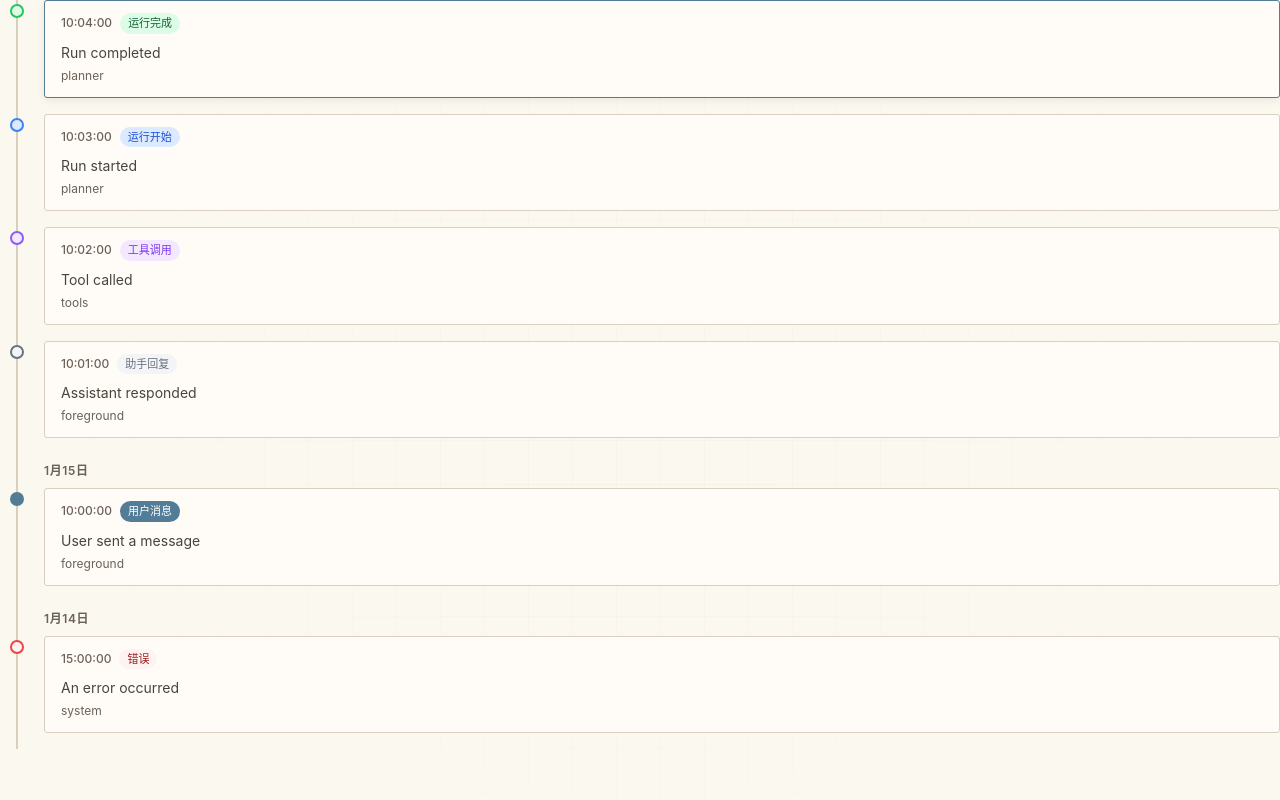
Scenario: TimelineView › collapses expanded event when clicked again
Click the button with test id "timeline-event-e1" at (640, 545), box left=0, top=488, right=1279, bottom=602
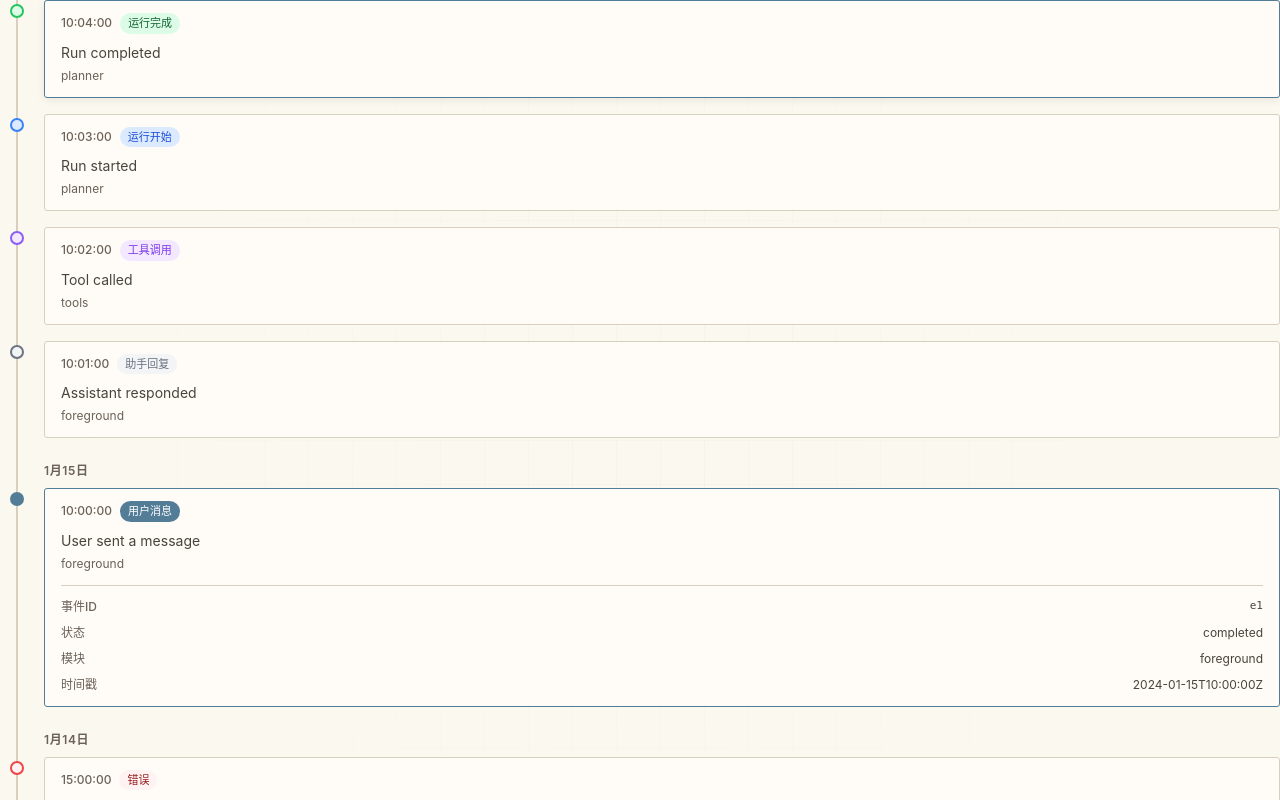
Now the text "事件ID" is shown, box left=61, top=598, right=97, bottom=616
Click the button with test id "timeline-event-e1" at (640, 708), box left=0, top=488, right=1279, bottom=722
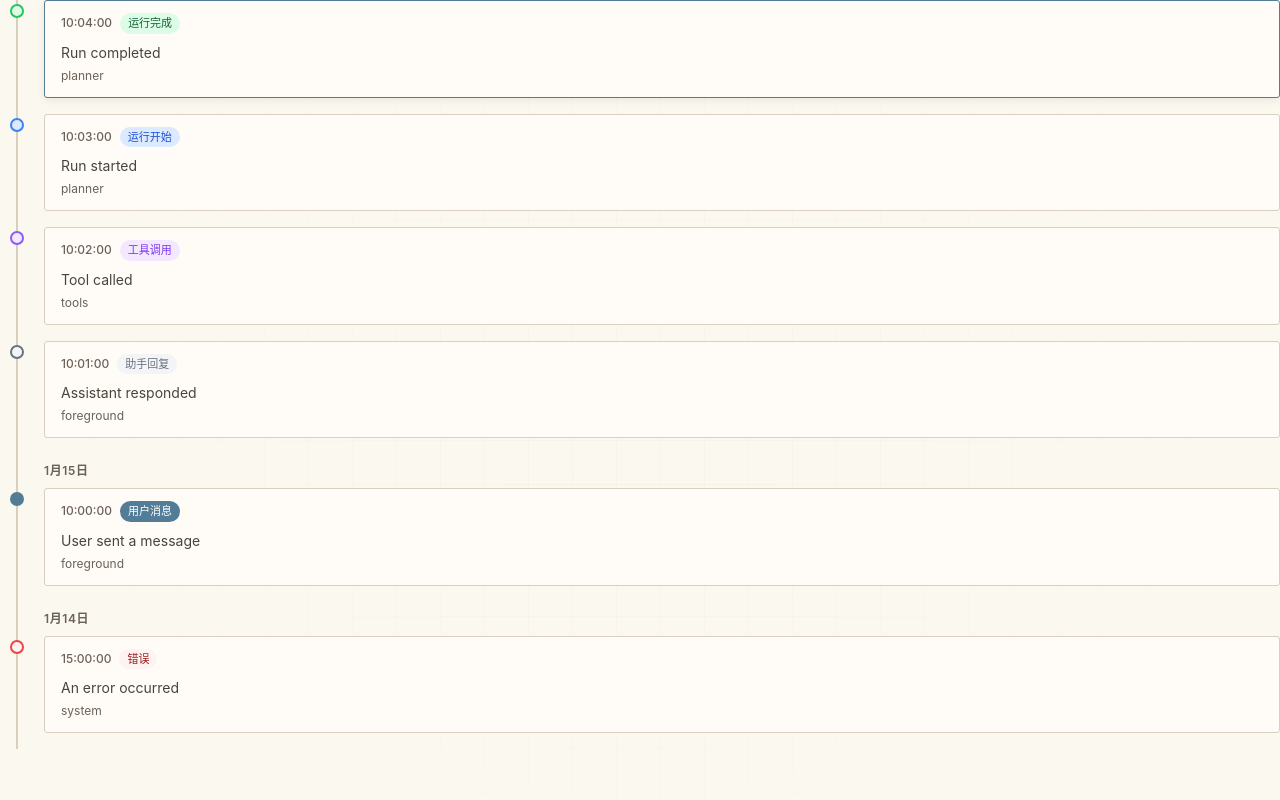
Now the text "事件ID" is gone
